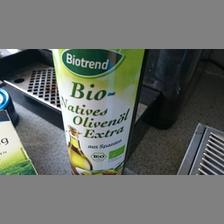Oel: (50, 48, 146, 174)
